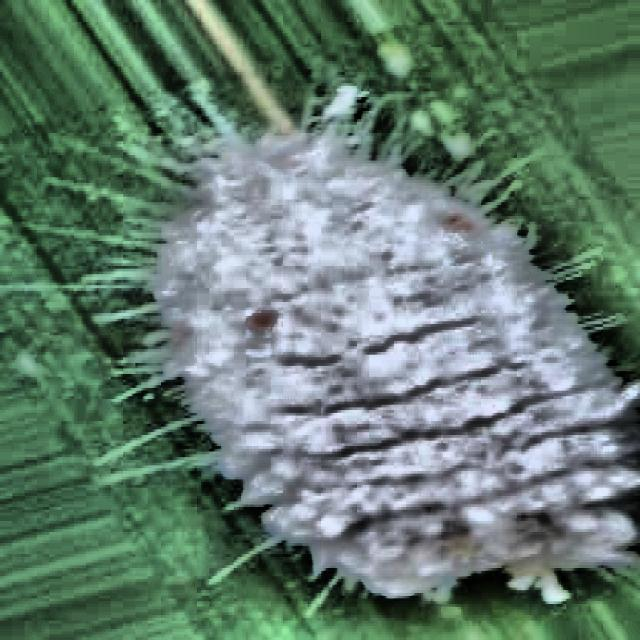Mealy-bug: (87, 49, 640, 638)
